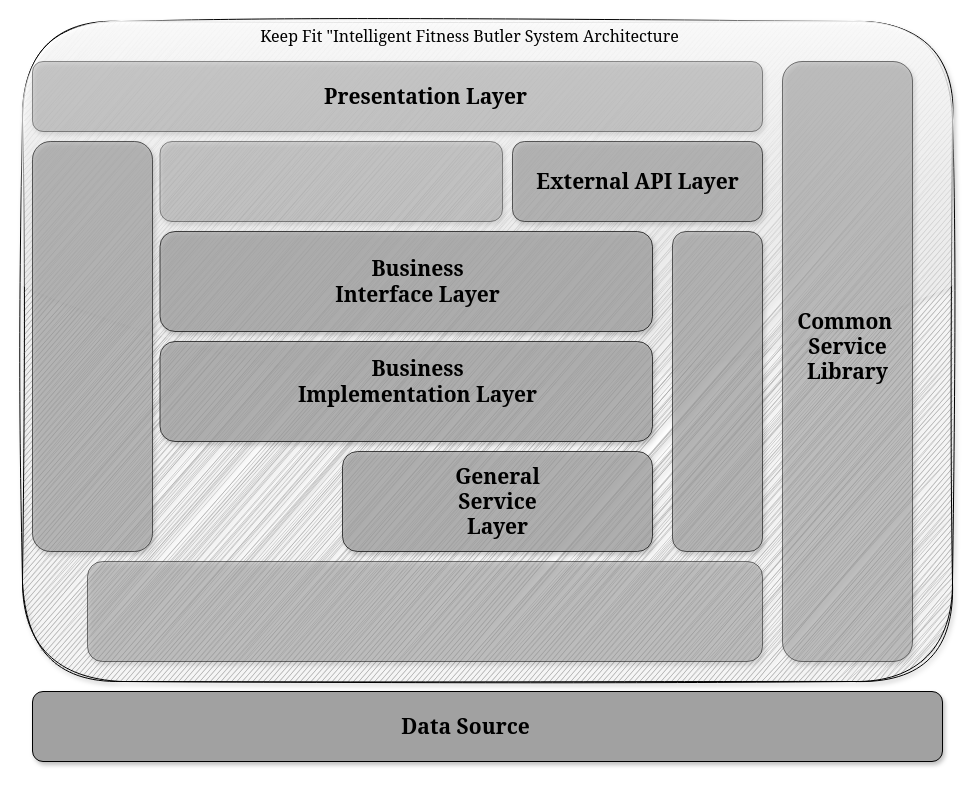
This 976x786 diagram has some shape labels left out. Each missing label, with the centre of its shape:
Application Layer: the point at 331,182
Business Entity Library: the point at 718,392
Data Access Layer: the point at 425,612
DTO Component Library: the point at 93,347
